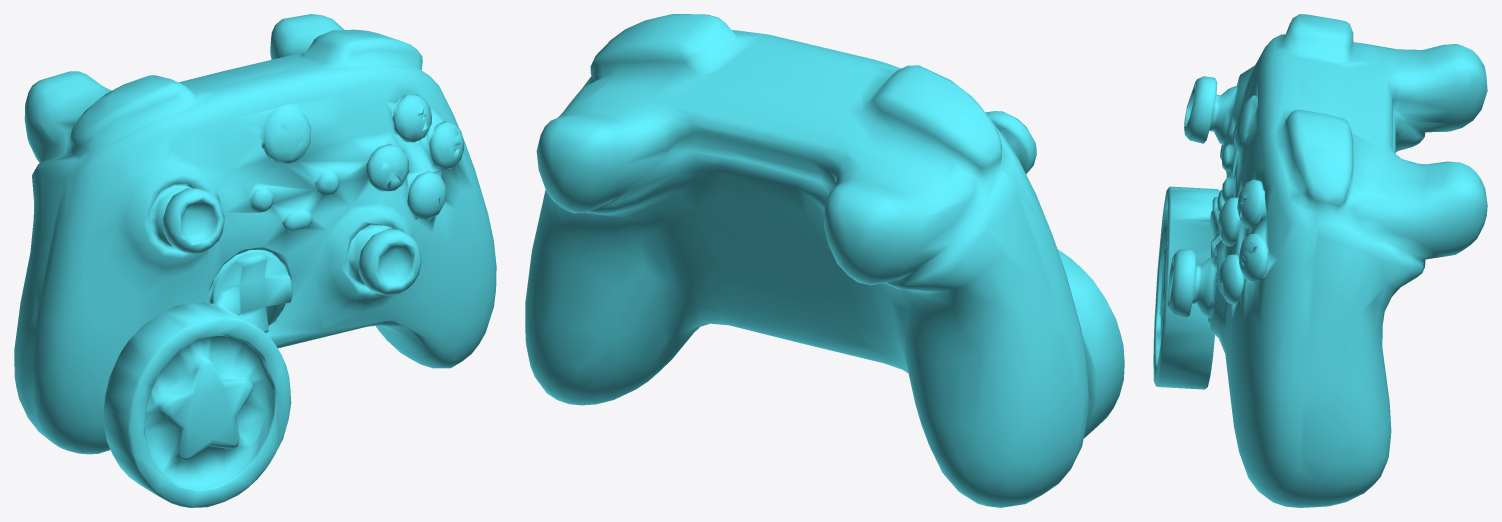
Rendered from GamePoint.glb.
3 views of the same model, side by side, from view 1: azimuth 30°, elevation 25°; view 2: azimuth 150°, elevation 25°; view 3: azimuth 270°, elevation 25° (orthographic). The views are drawn at different scales.
Parts seen in each view (by area): view 1: 遊戲點數; view 2: 遊戲點數; view 3: 遊戲點數.
Part boxes in pixels (x1,y1,x2,y2): 遊戲點數: (14, 14, 496, 507); 遊戲點數: (525, 14, 1124, 507); 遊戲點數: (1153, 14, 1487, 507).
Bounding box in the file's own units: 0.049 × 0.0376 × 0.0307.
